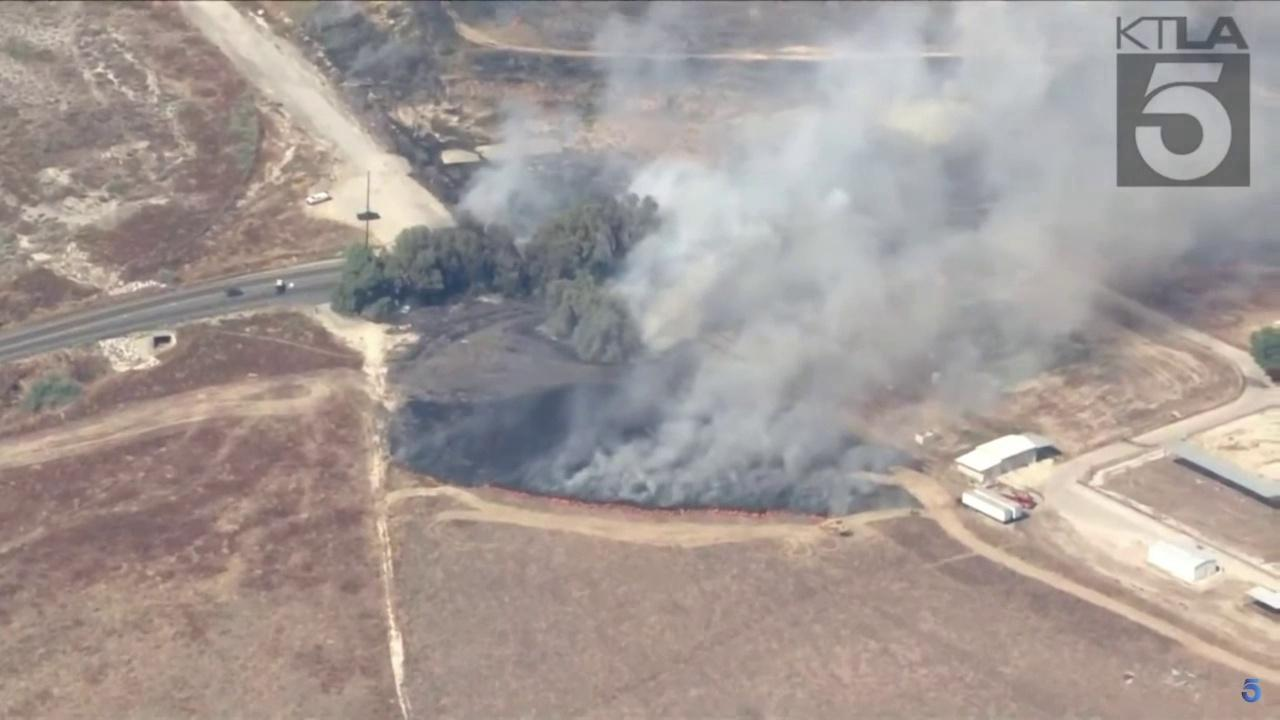fire: (506, 489, 828, 522)
smoke: (452, 0, 1280, 516)
